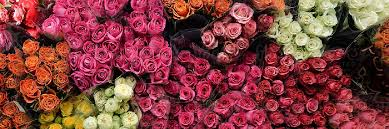lale: (16, 77, 41, 99), (91, 63, 114, 86), (36, 93, 60, 115), (32, 67, 52, 93), (75, 52, 97, 74), (228, 3, 254, 21), (108, 21, 128, 44), (147, 14, 166, 38), (68, 70, 90, 90), (215, 94, 235, 116), (224, 71, 246, 90), (245, 110, 268, 128), (22, 53, 43, 72), (196, 110, 218, 128), (129, 16, 151, 34), (176, 84, 196, 103), (206, 66, 225, 86), (88, 23, 108, 42), (178, 110, 197, 129), (121, 110, 141, 128), (223, 21, 243, 39), (151, 101, 172, 118), (176, 72, 199, 87), (192, 58, 211, 76), (173, 0, 192, 18), (20, 38, 40, 55), (242, 80, 263, 96), (96, 111, 114, 129), (195, 83, 214, 100), (38, 47, 58, 63), (291, 103, 312, 118), (149, 70, 171, 84), (80, 111, 97, 129), (95, 44, 111, 63), (54, 72, 69, 92), (228, 115, 248, 129), (136, 94, 153, 110), (235, 37, 251, 54), (201, 30, 215, 49), (306, 37, 321, 54), (143, 58, 159, 73), (139, 46, 154, 62), (170, 63, 186, 78), (220, 41, 237, 55), (159, 46, 172, 64), (305, 94, 317, 113), (56, 41, 70, 57), (249, 66, 265, 80), (273, 80, 287, 96), (211, 20, 224, 36), (322, 106, 339, 118), (150, 118, 168, 129), (178, 50, 190, 64), (302, 71, 315, 83), (296, 33, 308, 46)
